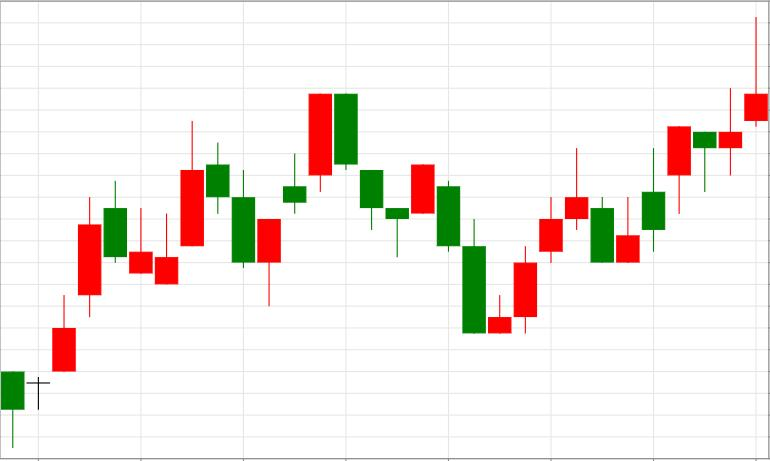shooting_star_fall: (616, 17, 768, 264), (488, 148, 588, 334)
